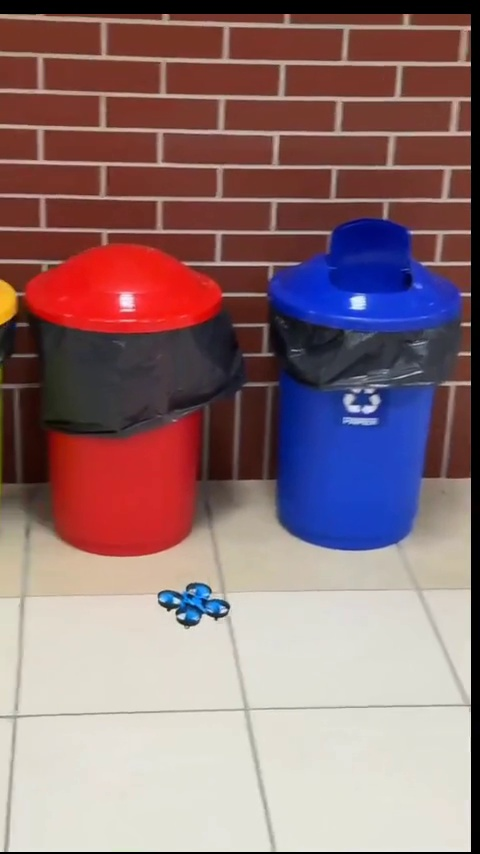drone: (159, 582, 230, 627)
